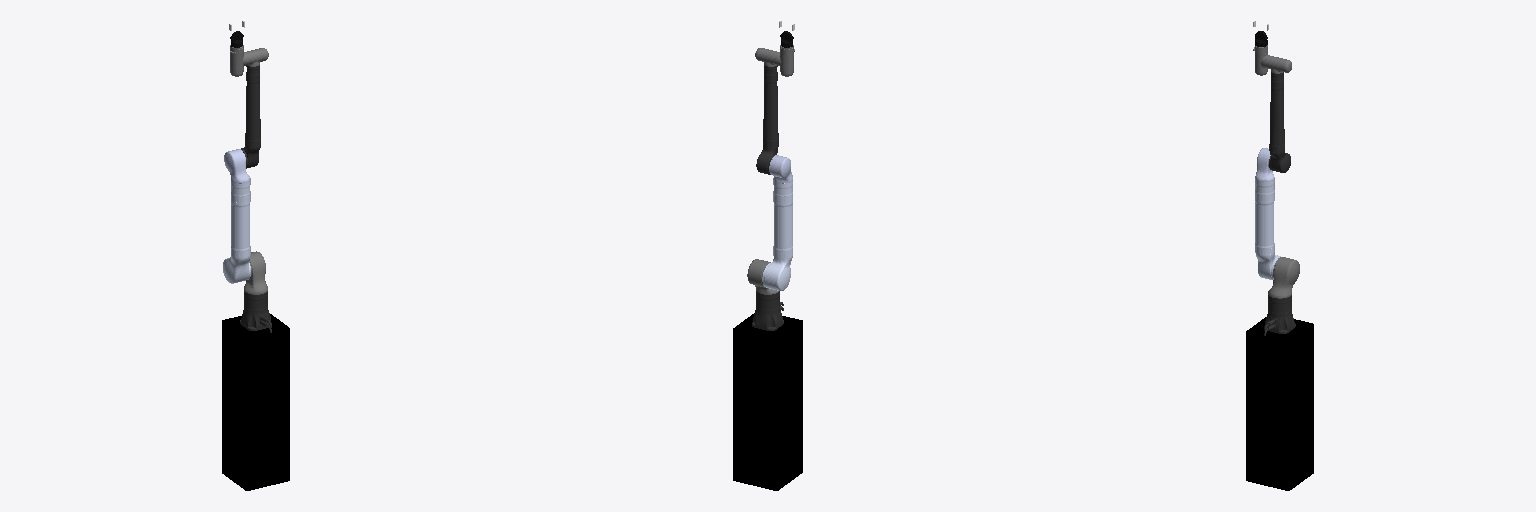
--- What the picture shows (computed from the rendered views, not written in the file) ---
3 views of the same robot in one strip: view 1: azimuth 30°, elevation 25°; view 2: azimuth 150°, elevation 25°; view 3: azimuth 330°, elevation 25° (orthographic).
Robot: kr1410_robot — 24 links, 23 joints (13 revolute, 10 fixed); root link world; default pose: all joints at 0.
Links seen in each view (by area): view 1: pedestal_link, link_2, link_4, base_link_1, link_1, link_3; view 2: pedestal_link, link_2, link_4, base_link_1, link_3, link_1; view 3: pedestal_link, link_2, link_4, link_1, base_link_1.
Boxes of the visible links, left/top/right/bottom form: pedestal_link: left=222, top=314, right=289, bottom=490; link_2: left=223, top=180, right=250, bottom=283; link_4: left=241, top=65, right=260, bottom=168; base_link_1: left=240, top=291, right=271, bottom=332; link_1: left=244, top=251, right=267, bottom=294; link_3: left=224, top=149, right=250, bottom=183; pedestal_link: left=733, top=313, right=802, bottom=490; link_2: left=762, top=180, right=792, bottom=290; link_4: left=756, top=65, right=778, bottom=174; base_link_1: left=752, top=291, right=783, bottom=330; link_3: left=769, top=155, right=792, bottom=183; link_1: left=747, top=259, right=778, bottom=294; pedestal_link: left=1246, top=317, right=1313, bottom=490; link_2: left=1255, top=179, right=1280, bottom=279; link_4: left=1269, top=72, right=1290, bottom=172; link_1: left=1268, top=257, right=1299, bottom=298; base_link_1: left=1264, top=295, right=1295, bottom=335.
Bounding box of the posed robot: 0.3299 × 0.3349 × 3.01 m (x, y, z).
Meshes: 13 distinct files referenced, 9 mesh visuals loaded (9 Collada DAE); not drawn: 8 (reference not matched to a file when rendering).

robot.urdf — kr1410_robot:
<?xml version="1.0" ?>
<!-- =================================================================================== -->
<!-- |    This document was autogenerated by xacro from kr1410_gripper.xacro           | -->
<!-- |    EDITING THIS FILE BY HAND IS NOT RECOMMENDED                                 | -->
<!-- =================================================================================== -->
<robot name="kr1410_robot">
    <!-- Author: Shivam -->
    <link name="base_link_1">
        <inertial>
            <origin rpy="0 0 0" xyz="-7.4738E-07 -0.0025261 0.10578" />
            <mass value="4.1962" />
            <inertia ixx="0.0097664" ixy="-2.7713E-06" ixz="-6.4429E-08" iyy="0.0097383" iyz="2.8724E-06" izz="0.01208" />
        </inertial>
        <visual>
            <origin rpy="0 0 0" xyz="0 0 0" />
            <geometry>
                <mesh filename="package://kr1410_cobot/meshes/visual/base_link_1.dae" />
            </geometry>
            <material name="">
                <color rgba="0.25098 0.25098 0.25098 1" />
            </material>
        </visual>
        <collision>
            <origin rpy="0 0 0" xyz="0 0 0" />
            <geometry>
                <mesh filename="package://kr1410_cobot/meshes/collision/base_link_1.STL" />
            </geometry>
        </collision>
    </link>
    <link name="link_1">
        <inertial>
            <origin rpy="0 0 0" xyz="0.012459 0.043509 0.10073" />
            <mass value="3.0192" />
            <inertia ixx="0.015663" ixy="-0.00040133" ixz="-0.00064388" iyy="0.012554" iyz="-0.0035217" izz="0.0094056" />
        </inertial>
        <visual>
            <origin rpy="0 0 0" xyz="0 0 0" />
            <geometry>
                <mesh filename="package://kr1410_cobot/meshes/visual/link_1.dae" />
            </geometry>
            <material name="">
                <color rgba="0.50196 0.50196 0.50196 1" />
            </material>
        </visual>
        <collision>
            <origin rpy="0 0 0" xyz="0 0 0" />
            <geometry>
                <mesh filename="package://kr1410_cobot/meshes/collision/link_1.STL" />
            </geometry>
        </collision>
    </link>
    <joint name="joint_1" type="revolute">
        <origin rpy="0 0 0" xyz="0 0 0.2272" />
        <parent link="base_link_1" />
        <child link="link_1" />
        <axis xyz="0 0 1" />
        <limit effort="150.0" lower="-3.1416" upper="3.1416" velocity="3.927" />
        <dynamics damping="0" friction="0" />
    </joint>
    <link name="link_2">
        <inertial>
            <origin rpy="0 0 0" xyz="-0.044962 -0.2486 0.062961" />
            <mass value="8.0381" />
            <inertia ixx="0.045397" ixy="-0.0027682" ixz="9.7935E-05" iyy="0.016757" iyz="0.00018387" izz="0.048264" />
        </inertial>
        <visual>
            <origin rpy="0 0 0" xyz="0 0 0" />
            <geometry>
                <mesh filename="package://kr1410_cobot/meshes/visual/link_2.dae" />
            </geometry>
            <material name="">
                <color rgba="0.86667 0.90588 1 1" />
            </material>
        </visual>
        <collision>
            <origin rpy="0 0 0" xyz="0 0 0" />
            <geometry>
                <mesh filename="package://kr1410_cobot/meshes/collision/link_2.STL" />
            </geometry>
        </collision>
    </link>
    <joint name="joint_2" type="revolute">
        <origin rpy="-1.5708 0 1.5708" xyz="-0.0405 0.062 0.13" />
        <parent link="link_1" />
        <child link="link_2" />
        <axis xyz="0 0 -1" />
        <limit effort="150.0" lower="-1.2217" upper="3.1416" velocity="3.927" />
        <dynamics damping="0" friction="0" />
    </joint>
    <link name="link_3">
        <inertial>
            <origin rpy="0 0 0" xyz="-0.010057 0.034551 0.080854" />
            <mass value="1.5966" />
            <inertia ixx="0.0054385" ixy="0.00013345" ixz="0.00023101" iyy="0.0043549" iyz="-0.0012411" izz="0.0032789" />
        </inertial>
        <visual>
            <origin rpy="0 0 0" xyz="0 0 0" />
            <geometry>
                <mesh filename="package://kr1410_cobot/meshes/visual/link_3.dae" />
            </geometry>
            <material name="">
                <color rgba="0.79216 0.81961 0.93333 1" />
            </material>
        </visual>
        <collision>
            <origin rpy="0 0 0" xyz="0 0 0" />
            <geometry>
                <mesh filename="package://kr1410_cobot/meshes/collision/link_3.STL" />
            </geometry>
        </collision>
    </link>
    <joint name="joint_3" type="revolute">
        <origin rpy="1.5708 1.5708 0" xyz="-0.062 -0.6175 0.0647" />
        <parent link="link_2" />
        <child link="link_3" />
        <axis xyz="0 0 1" />
        <limit effort="150.0" lower="-3.1416" upper="3.1416" velocity="3.927" />
        <dynamics damping="0" friction="0" />
    </joint>
    <link name="link_4">
        <inertial>
            <origin rpy="0 0 0" xyz="-0.036947 -0.23777 -0.051725" />
            <mass value="4.4818" />
            <inertia ixx="0.036251" ixy="-0.00092868" ixz="-2.0678E-05" iyy="0.0053736" iyz="-4.2282E-05" izz="0.037294" />
        </inertial>
        <visual>
            <origin rpy="0 0 0" xyz="0 0 0" />
            <geometry>
                <mesh filename="package://kr1410_cobot/meshes/visual/link_4.dae" />
            </geometry>
            <material name="">
                <color rgba="0.25098 0.25098 0.25098 1" />
            </material>
        </visual>
        <collision>
            <origin rpy="0 0 0" xyz="0 0 0" />
            <geometry>
                <mesh filename="package://kr1410_cobot/meshes/collision/link_4.STL" />
            </geometry>
        </collision>
    </link>
    <joint name="joint_4" type="revolute">
        <origin rpy="-1.5708 0 1.5708" xyz="0.0325 0.05 0.105" />
        <parent link="link_3" />
        <child link="link_4" />
        <axis xyz="0 0 1" />
        <limit effort="150.0" lower="-1.2217" upper="3.1416" velocity="3.927" />
        <dynamics damping="0" friction="0" />
    </joint>
    <link name="link_5">
        <inertial>
            <origin rpy="0 0 0" xyz="0.015982 4.9455E-08 0.043633" />
            <mass value="0.76365" />
            <inertia ixx="0.00066763" ixy="-2.6599E-09" ixz="8.4155E-06" iyy="0.00080379" iyz="-9.3021E-10" izz="0.00075782" />
        </inertial>
        <visual>
            <origin rpy="0 0 0" xyz="0 0 0" />
            <geometry>
                <mesh filename="package://kr1410_cobot/meshes/visual/link_5.dae" />
            </geometry>
            <material name="">
                <color rgba="0.50196 0.50196 0.50196 1" />
            </material>
        </visual>
        <collision>
            <origin rpy="0 0 0" xyz="0 0 0" />
            <geometry>
                <mesh filename="package://kr1410_cobot/meshes/collision/link_5.STL" />
            </geometry>
        </collision>
    </link>
    <joint name="joint_5" type="revolute">
        <origin rpy="1.5708 1.5708 0" xyz="-0.05 -0.631 -0.0532" />
        <parent link="link_4" />
        <child link="link_5" />
        <axis xyz="0 0 1" />
        <limit effort="28.0" lower="-3.1416" upper="3.1416" velocity="3.927" />
        <dynamics damping="0" friction="0" />
    </joint>
    <link name="link_6">
        <inertial>
            <origin rpy="0 0 0" xyz="-4.9555E-08 -0.016138 -0.043627" />
            <mass value="0.76211" />
            <inertia ixx="0.00080256" ixy="-2.6599E-09" ixz="-9.3021E-10" iyy="0.00066523" iyz="8.4155E-06" izz="0.00075659" />
        </inertial>
        <visual>
            <origin rpy="0 0 0" xyz="0 0 0" />
            <geometry>
                <mesh filename="package://kr1410_cobot/meshes/visual/link_6.dae" />
            </geometry>
            <material name="">
                <color rgba="0.50196 0.50196 0.50196 1" />
            </material>
        </visual>
        <collision>
            <origin rpy="0 0 0" xyz="0 0 0" />
            <geometry>
                <mesh filename="package://kr1410_cobot/meshes/collision/link_6.STL" />
            </geometry>
        </collision>
    </link>
    <joint name="joint_6" type="revolute">
        <origin rpy="1.5708 0 1.5708" xyz="-0.0645 0 0.0465" />
        <parent link="link_5" />
        <child link="link_6" />
        <axis xyz="0 0 -1" />
        <limit effort="28.0" lower="-3.1416" upper="3.1416" velocity="3.927" />
        <dynamics damping="0" friction="0" />
    </joint>
    <link name="tool_io">
        <inertial>
            <origin rpy="0 0 0" xyz="-0.00026943 -0.00014925 0.028118" />
            <mass value="0.22852" />
            <inertia ixx="0.00010445" ixy="9.8149E-07" ixz="-9.1736E-08" iyy="0.00010267" iyz="-1.6431E-08" izz="0.00017436" />
        </inertial>
        <visual>
            <origin rpy="0 0 0" xyz="0 0 0" />
            <geometry>
                <mesh filename="package://kr1410_cobot/meshes/visual/tool_io.dae" />
            </geometry>
            <material name="">
                <color rgba="0.50196 0.50196 0.50196 1" />
            </material>
        </visual>
        <collision>
            <origin rpy="0 0 0" xyz="0 0 0" />
            <geometry>
                <mesh filename="package://kr1410_cobot/meshes/collision/tool_io.STL" />
            </geometry>
        </collision>
    </link>
    <joint name="joint_tool_io" type="revolute">
        <origin rpy="1.5708 -1.5708 3.14" xyz="0 0.053 -0.0465" />
        <parent link="link_6" />
        <child link="tool_io" />
        <axis xyz="0 0 1" />
        <limit effort="28.0" lower="-3.1416" upper="3.1416" velocity="3.927" />
        <dynamics damping="0" friction="0" />
    </joint>
    <!-- Author: Shivam -->
    <transmission name="joint_1_trans">
        <type>transmission_interface/SimpleTransmission</type>
        <joint name="joint_1">
            <hardwareInterface>hardware_interface/PositionJointInterface</hardwareInterface>
        </joint>
        <actuator name="joint_1_motor">
            <mechanicalReduction>1.0</mechanicalReduction>
            <hardwareInterface>hardware_interface/PositionJointInterface</hardwareInterface>
        </actuator>
    </transmission>
    <transmission name="joint_2_trans">
        <type>transmission_interface/SimpleTransmission</type>
        <joint name="joint_2">
            <hardwareInterface>hardware_interface/PositionJointInterface</hardwareInterface>
        </joint>
        <actuator name="joint_2_motor">
            <mechanicalReduction>1.0</mechanicalReduction>
            <hardwareInterface>hardware_interface/PositionJointInterface</hardwareInterface>
        </actuator>
    </transmission>
    <transmission name="joint_3_trans">
        <type>transmission_interface/SimpleTransmission</type>
        <joint name="joint_3">
            <hardwareInterface>hardware_interface/PositionJointInterface</hardwareInterface>
        </joint>
        <actuator name="joint_3_motor">
            <mechanicalReduction>1.0</mechanicalReduction>
            <hardwareInterface>hardware_interface/PositionJointInterface</hardwareInterface>
        </actuator>
    </transmission>
    <transmission name="joint_4_trans">
        <type>transmission_interface/SimpleTransmission</type>
        <joint name="joint_4">
            <hardwareInterface>hardware_interface/PositionJointInterface</hardwareInterface>
        </joint>
        <actuator name="joint_4_motor">
            <mechanicalReduction>1.0</mechanicalReduction>
            <hardwareInterface>hardware_interface/PositionJointInterface</hardwareInterface>
        </actuator>
    </transmission>
    <transmission name="joint_5_trans">
        <type>transmission_interface/SimpleTransmission</type>
        <joint name="joint_5">
            <hardwareInterface>hardware_interface/PositionJointInterface</hardwareInterface>
        </joint>
        <actuator name="joint_5_motor">
            <mechanicalReduction>1.0</mechanicalReduction>
            <hardwareInterface>hardware_interface/PositionJointInterface</hardwareInterface>
        </actuator>
    </transmission>
    <transmission name="joint_6_trans">
        <type>transmission_interface/SimpleTransmission</type>
        <joint name="joint_6">
            <hardwareInterface>hardware_interface/PositionJointInterface</hardwareInterface>
        </joint>
        <actuator name="joint_6_motor">
            <mechanicalReduction>1.0</mechanicalReduction>
            <hardwareInterface>hardware_interface/PositionJointInterface</hardwareInterface>
        </actuator>
    </transmission>
    <transmission name="joint_tool_io_trans">
        <type>transmission_interface/SimpleTransmission</type>
        <joint name="joint_tool_io">
            <hardwareInterface>hardware_interface/PositionJointInterface</hardwareInterface>
        </joint>
        <actuator name="joint_tool_io_motor">
            <mechanicalReduction>1.0</mechanicalReduction>
            <hardwareInterface>hardware_interface/PositionJointInterface</hardwareInterface>
        </actuator>
    </transmission>
    <!-- Tool frame used by the arm -->
    <link name="tool_frame" />
    <joint name="tool_frame_joint" type="fixed">
        <origin rpy="0 0 0" xyz="0 0 0.120" />
        <parent link="ee_link" />
        <child link="tool_frame" />
        <axis xyz="0 0 0" />
    </joint>
    <joint name="gripper_base_joint" type="fixed">
        <parent link="ee_link" />
        <child link="robotiq_arg2f_base_link" />
        <origin rpy="0.0 0.0 1.57" xyz="0.0 0.0 0.0" />
    </joint>
    <link name="robotiq_arg2f_base_link">
        <inertial>
            <origin rpy="0 0 0" xyz="8.625E-08 -4.6583E-06 0.03145" />
            <mass value="0.22652" />
            <inertia ixx="0.00020005" ixy="-4.2442E-10" ixz="-2.9069E-10" iyy="0.00017832" iyz="-3.4402E-08" izz="0.00013478" />
        </inertial>
        <visual>
            <origin rpy="0 0 0" xyz="0 0 0" />
            <geometry>
                <mesh filename="package://robotiq_2f_85_gripper/meshes/visual/robotiq_arg2f_85_base_link.dae" scale="0.001 0.001 0.001" />
            </geometry>
            <material name="">
                <color rgba="0.1 0.1 0.1 1" />
            </material>
        </visual>
        <collision>
            <origin rpy="0 0 0" xyz="0 0 0" />
            <geometry>
                <mesh filename="package://robotiq_2f_85_gripper/meshes/collision/robotiq_arg2f_base_link.stl" />
            </geometry>
        </collision>
    </link>
    <link name="left_outer_knuckle">
        <inertial>
            <origin rpy="0 0 0" xyz="-0.000200000000003065 0.0199435877845359 0.0292245259211331" />
            <mass value="0.00853198276973456" />
            <inertia ixx="2.89328108496468E-06" ixy="-1.57935047237397E-19" ixz="-1.93980378593255E-19" iyy="1.86719750325683E-06" iyz="-1.21858577871576E-06" izz="1.21905238907251E-06" />
        </inertial>
        <visual>
            <origin rpy="0 0 0" xyz="0 0 0" />
            <geometry>
                <mesh filename="package://robotiq_2f_85_gripper/meshes/visual/robotiq_arg2f_85_outer_knuckle.dae" scale="0.001 0.001 0.001" />
            </geometry>
            <material name="">
                <color rgba="0.792156862745098 0.819607843137255 0.933333333333333 1" />
            </material>
        </visual>
        <collision>
            <origin rpy="0 0 0" xyz="0 0 0" />
            <geometry>
                <mesh filename="package://robotiq_2f_85_gripper/meshes/collision/robotiq_arg2f_85_outer_knuckle.dae" scale="0.001 0.001 0.001" />
            </geometry>
        </collision>
    </link>
    <link name="left_outer_finger">
        <inertial>
            <origin rpy="0 0 0" xyz="0.00030115855001899 0.0373907951953854 -0.0208027427000385" />
            <mass value="0.022614240507152" />
            <inertia ixx="1.52518312458174E-05" ixy="9.76583423954399E-10" ixz="-5.43838577022588E-10" iyy="6.17694243867776E-06" iyz="6.78636130740228E-06" izz="1.16494917907219E-05" />
        </inertial>
        <visual>
            <origin rpy="0 0 0" xyz="0 0 0" />
            <geometry>
                <mesh filename="package://robotiq_2f_85_gripper/meshes/visual/robotiq_arg2f_85_outer_finger.dae" scale="0.001 0.001 0.001" />
            </geometry>
            <material name="">
                <color rgba="0.1 0.1 0.1 1" />
            </material>
        </visual>
        <collision>
            <origin rpy="0 0 0" xyz="0 0 0" />
            <geometry>
                <mesh filename="package://robotiq_2f_85_gripper/meshes/collision/robotiq_arg2f_85_outer_finger.dae" scale="0.001 0.001 0.001" />
            </geometry>
        </collision>
    </link>
    <link name="left_inner_finger">
        <inertial>
            <origin rpy="0 0 0" xyz="0.000299999999999317 0.0160078233491243 -0.0136945669206257" />
            <mass value="0.0104003125914103" />
            <inertia ixx="2.71909453810972E-06" ixy="1.35402465472579E-21" ixz="-7.1817349065269E-22" iyy="7.69100314106116E-07" iyz="6.74715432769696E-07" izz="2.30315190420171E-06" />
        </inertial>
        <visual>
            <origin rpy="0 0 0" xyz="0 0 0" />
            <geometry>
                <mesh filename="package://robotiq_2f_85_gripper/meshes/visual/robotiq_arg2f_85_inner_finger.dae" scale="0.001 0.001 0.001" />
            </geometry>
            <material name="">
                <color rgba="0.1 0.1 0.1 1" />
            </material>
        </visual>
        <collision>
            <origin rpy="0 0 0" xyz="0 0 0" />
            <geometry>
                <mesh filename="package://robotiq_2f_85_gripper/meshes/collision/robotiq_arg2f_85_inner_finger.dae" scale="0.001 0.001 0.001" />
            </geometry>
        </collision>
    </link>
    <link name="left_inner_finger_pad">
        <inertial>
            <origin rpy="0 0 0" xyz="0.0000299999999999317 0.00160078233491243 -0.00136945669206257" />
            <mass value="0.00104003125914103" />
            <inertia ixx="2.71909453810972E-07" ixy="1.35402465472579E-22" ixz="-7.1817349065269E-23" iyy="7.69100314106116E-08" iyz="6.74715432769696E-08" izz="2.30315190420171E-07" />
        </inertial>
        <visual>
            <origin rpy="0 0 0" xyz="0 0 0" />
            <geometry>
                <box size="0.022 0.00635 0.0375" />
            </geometry>
            <material name="">
                <color rgba="0.9 0.9 0.9 1" />
            </material>
        </visual>
        <collision>
            <origin rpy="0 0 0" xyz="0 0 0" />
            <geometry>
                <box size="0.022 0.00635 0.0375" />
            </geometry>
            <material name="">
                <color rgba="0.9 0.0 0.0 1" />
            </material>
        </collision>
    </link>
    <link name="left_inner_knuckle">
        <inertial>
            <origin rpy="0 0 0" xyz="0.000123011831763771 0.0507850843201817 0.00103968640075166" />
            <mass value="0.0271177346495152" />
            <inertia ixx="2.61910379223783E-05" ixy="-2.43616858946494E-07" ixz="-6.37789906117123E-09" iyy="2.8270243746167E-06" iyz="-5.37200748039765E-07" izz="2.83695868220296E-05" />
        </inertial>
        <visual>
            <origin rpy="0 0 0" xyz="0 0 0" />
            <geometry>
                <mesh filename="package://robotiq_2f_85_gripper/meshes/visual/robotiq_arg2f_85_inner_knuckle.dae" scale="0.001 0.001 0.001" />
            </geometry>
            <material name="">
                <color rgba="0.1 0.1 0.1 1" />
            </material>
        </visual>
        <collision>
            <origin rpy="0 0 0" xyz="0 0 0" />
            <geometry>
                <mesh filename="package://robotiq_2f_85_gripper/meshes/collision/robotiq_arg2f_85_inner_knuckle.dae" scale="0.001 0.001 0.001" />
            </geometry>
        </collision>
    </link>
    <link name="right_outer_knuckle">
        <inertial>
            <origin rpy="0 0 0" xyz="-0.000200000000003065 0.0199435877845359 0.0292245259211331" />
            <mass value="0.00853198276973456" />
            <inertia ixx="2.89328108496468E-06" ixy="-1.57935047237397E-19" ixz="-1.93980378593255E-19" iyy="1.86719750325683E-06" iyz="-1.21858577871576E-06" izz="1.21905238907251E-06" />
        </inertial>
        <visual>
            <origin rpy="0 0 0" xyz="0 0 0" />
            <geometry>
                <mesh filename="package://robotiq_2f_85_gripper/meshes/visual/robotiq_arg2f_85_outer_knuckle.dae" scale="0.001 0.001 0.001" />
            </geometry>
            <material name="">
                <color rgba="0.792156862745098 0.819607843137255 0.933333333333333 1" />
            </material>
        </visual>
        <collision>
            <origin rpy="0 0 0" xyz="0 0 0" />
            <geometry>
                <mesh filename="package://robotiq_2f_85_gripper/meshes/collision/robotiq_arg2f_85_outer_knuckle.dae" scale="0.001 0.001 0.001" />
            </geometry>
        </collision>
    </link>
    <link name="right_outer_finger">
        <inertial>
            <origin rpy="0 0 0" xyz="0.00030115855001899 0.0373907951953854 -0.0208027427000385" />
            <mass value="0.022614240507152" />
            <inertia ixx="1.52518312458174E-05" ixy="9.76583423954399E-10" ixz="-5.43838577022588E-10" iyy="6.17694243867776E-06" iyz="6.78636130740228E-06" izz="1.16494917907219E-05" />
        </inertial>
        <visual>
            <origin rpy="0 0 0" xyz="0 0 0" />
            <geometry>
                <mesh filename="package://robotiq_2f_85_gripper/meshes/visual/robotiq_arg2f_85_outer_finger.dae" scale="0.001 0.001 0.001" />
            </geometry>
            <material name="">
                <color rgba="0.1 0.1 0.1 1" />
            </material>
        </visual>
        <collision>
            <origin rpy="0 0 0" xyz="0 0 0" />
            <geometry>
                <mesh filename="package://robotiq_2f_85_gripper/meshes/collision/robotiq_arg2f_85_outer_finger.dae" scale="0.001 0.001 0.001" />
            </geometry>
        </collision>
    </link>
    <link name="right_inner_finger">
        <inertial>
            <origin rpy="0 0 0" xyz="0.000299999999999317 0.0160078233491243 -0.0136945669206257" />
            <mass value="0.0104003125914103" />
            <inertia ixx="2.71909453810972E-06" ixy="1.35402465472579E-21" ixz="-7.1817349065269E-22" iyy="7.69100314106116E-07" iyz="6.74715432769696E-07" izz="2.30315190420171E-06" />
        </inertial>
        <visual>
            <origin rpy="0 0 0" xyz="0 0 0" />
            <geometry>
                <mesh filename="package://robotiq_2f_85_gripper/meshes/visual/robotiq_arg2f_85_inner_finger.dae" scale="0.001 0.001 0.001" />
            </geometry>
            <material name="">
                <color rgba="0.1 0.1 0.1 1" />
            </material>
        </visual>
        <collision>
            <origin rpy="0 0 0" xyz="0 0 0" />
            <geometry>
                <mesh filename="package://robotiq_2f_85_gripper/meshes/collision/robotiq_arg2f_85_inner_finger.dae" scale="0.001 0.001 0.001" />
            </geometry>
        </collision>
    </link>
    <link name="right_inner_finger_pad">
        <inertial>
            <origin rpy="0 0 0" xyz="0.0000299999999999317 0.00160078233491243 -0.00136945669206257" />
            <mass value="0.00104003125914103" />
            <inertia ixx="2.71909453810972E-07" ixy="1.35402465472579E-22" ixz="-7.1817349065269E-23" iyy="7.69100314106116E-08" iyz="6.74715432769696E-08" izz="2.30315190420171E-07" />
        </inertial>
        <visual>
            <origin rpy="0 0 0" xyz="0 0 0" />
            <geometry>
                <box size="0.022 0.00635 0.0375" />
            </geometry>
            <material name="">
                <color rgba="0.9 0.9 0.9 1" />
            </material>
        </visual>
        <collision>
            <origin rpy="0 0 0" xyz="0 0 0" />
            <geometry>
                <box size="0.022 0.00635 0.0375" />
            </geometry>
            <material name="">
                <color rgba="0.9 0.0 0.0 1" />
            </material>
        </collision>
    </link>
    <link name="right_inner_knuckle">
        <inertial>
            <origin rpy="0 0 0" xyz="0.000123011831763771 0.0507850843201817 0.00103968640075166" />
            <mass value="0.0271177346495152" />
            <inertia ixx="2.61910379223783E-05" ixy="-2.43616858946494E-07" ixz="-6.37789906117123E-09" iyy="2.8270243746167E-06" iyz="-5.37200748039765E-07" izz="2.83695868220296E-05" />
        </inertial>
        <visual>
            <origin rpy="0 0 0" xyz="0 0 0" />
            <geometry>
                <mesh filename="package://robotiq_2f_85_gripper/meshes/visual/robotiq_arg2f_85_inner_knuckle.dae" scale="0.001 0.001 0.001" />
            </geometry>
            <material name="">
                <color rgba="0.1 0.1 0.1 1" />
            </material>
        </visual>
        <collision>
            <origin rpy="0 0 0" xyz="0 0 0" />
            <geometry>
                <mesh filename="package://robotiq_2f_85_gripper/meshes/collision/robotiq_arg2f_85_inner_knuckle.dae" scale="0.001 0.001 0.001" />
            </geometry>
        </collision>
    </link>
    <joint name="finger_joint" type="revolute">
        <origin rpy="0 0 3.141592653589793" xyz="0 -0.0306011 0.054904" />
        <parent link="robotiq_arg2f_base_link" />
        <child link="left_outer_knuckle" />
        <axis xyz="1 0 0" />
        <limit effort="1000" lower="0" upper="0.8" velocity="2.0" />
    </joint>
    <joint name="left_outer_finger_joint" type="fixed">
        <origin rpy="0 0 0" xyz="0 0.0315 -0.0041" />
        <parent link="left_outer_knuckle" />
        <child link="left_outer_finger" />
        <axis xyz="1 0 0" />
    </joint>
    <joint name="left_inner_knuckle_joint" type="revolute">
        <!-- <origin xyz="0 ${reflect * -0.0127} 0.06142" rpy="${pi / 2 + .725} 0 ${(reflect - 1) * pi / 2}" /> -->
        <origin rpy="0 0 3.141592653589793" xyz="0 -0.0127 0.06142" />
        <parent link="robotiq_arg2f_base_link" />
        <child link="left_inner_knuckle" />
        <axis xyz="1 0 0" />
        <limit effort="1000" lower="0" upper="0.8757" velocity="2.0" />
        <mimic joint="finger_joint" multiplier="1" offset="0" />
    </joint>
    <joint name="left_inner_finger_joint" type="revolute">
        <origin rpy="0 0 0" xyz="0 0.0061 0.0471" />
        <parent link="left_outer_finger" />
        <child link="left_inner_finger" />
        <axis xyz="1 0 0" />
        <limit effort="1000" lower="-0.8757" upper="0.8757" velocity="2.0" />
        <mimic joint="finger_joint" multiplier="-1" offset="0" />
    </joint>
    <joint name="left_inner_finger_pad_joint" type="fixed">
        <origin rpy="0 0 0" xyz="0 -0.0220203446692936 0.03242" />
        <parent link="left_inner_finger" />
        <child link="left_inner_finger_pad" />
        <axis xyz="0 0 1" />
    </joint>
    <joint name="right_outer_knuckle_joint" type="revolute">
        <origin rpy="0 0 0" xyz="0 0.0306011 0.054904" />
        <parent link="robotiq_arg2f_base_link" />
        <child link="right_outer_knuckle" />
        <axis xyz="1 0 0" />
        <limit effort="1000" lower="0" upper="0.81" velocity="2.0" />
        <mimic joint="finger_joint" multiplier="1" offset="0" />
    </joint>
    <joint name="right_outer_finger_joint" type="fixed">
        <origin rpy="0 0 0" xyz="0 0.0315 -0.0041" />
        <parent link="right_outer_knuckle" />
        <child link="right_outer_finger" />
        <axis xyz="1 0 0" />
    </joint>
    <joint name="right_inner_knuckle_joint" type="revolute">
        <!-- <origin xyz="0 ${reflect * -0.0127} 0.06142" rpy="${pi / 2 + .725} 0 ${(reflect - 1) * pi / 2}" /> -->
        <origin rpy="0 0 0.0" xyz="0 0.0127 0.06142" />
        <parent link="robotiq_arg2f_base_link" />
        <child link="right_inner_knuckle" />
        <axis xyz="1 0 0" />
        <limit effort="1000" lower="0" upper="0.8757" velocity="2.0" />
        <mimic joint="finger_joint" multiplier="1" offset="0" />
    </joint>
    <joint name="right_inner_finger_joint" type="revolute">
        <origin rpy="0 0 0" xyz="0 0.0061 0.0471" />
        <parent link="right_outer_finger" />
        <child link="right_inner_finger" />
        <axis xyz="1 0 0" />
        <limit effort="1000" lower="-0.8757" upper="0.8757" velocity="2.0" />
        <mimic joint="finger_joint" multiplier="-1" offset="0" />
    </joint>
    <joint name="right_inner_finger_pad_joint" type="fixed">
        <origin rpy="0 0 0" xyz="0 -0.0220203446692936 0.03242" />
        <parent link="right_inner_finger" />
        <child link="right_inner_finger_pad" />
        <axis xyz="0 0 1" />
    </joint>
    <transmission name="finger_joint_trans">
        <type>transmission_interface/SimpleTransmission</type>
        <joint name="finger_joint">
            <hardwareInterface>hardware_interface/PositionJointInterface</hardwareInterface>
        </joint>
        <actuator name="finger_joint_motor">
            <mechanicalReduction>1</mechanicalReduction>
            <hardwareInterface>hardware_interface/PositionJointInterface</hardwareInterface>
        </actuator>
    </transmission>
    <gazebo reference="pedestal_link">
        <material>Gazebo/DarkGray</material>
        <plugin name="gazebo_ros_control">
            <robotNamespace>/</robotNamespace>
        </plugin>
    </gazebo>
    <gazebo reference="robotiq_arg2f_base_link">
        <material>Gazebo/Black</material>
    </gazebo>
    <!-- Configure self collision properties per link -->
    <gazebo reference="base_link_1">
        <selfCollide>true</selfCollide>
    </gazebo>
    <!-- Configure self collision properties per link -->
    <gazebo reference="link_1">
        <selfCollide>true</selfCollide>
    </gazebo>
    <!-- Configure self collision properties per link -->
    <gazebo reference="link_2">
        <selfCollide>true</selfCollide>
    </gazebo>
    <!-- Configure self collision properties per link -->
    <gazebo reference="link_3">
        <selfCollide>true</selfCollide>
    </gazebo>
    <!-- Configure self collision properties per link -->
    <gazebo reference="link_4">
        <selfCollide>true</selfCollide>
    </gazebo>
    <!-- Configure self collision properties per link -->
    <gazebo reference="link_5">
        <selfCollide>true</selfCollide>
    </gazebo>
    <!-- Configure self collision properties per link -->
    <gazebo reference="link_6">
        <selfCollide>true</selfCollide>
    </gazebo>
    <!-- Configure self collision properties per link -->
    <gazebo reference="tool_io">
        <selfCollide>true</selfCollide>
    </gazebo>
    <!-- Gazebo Plugins -->
    <gazebo>
        <plugin filename="libgazebo_ros_control.so" name="ros_control">
            <!--robotNamespace>/</robotNamespace-->
            <!--robotSimType>gazebo_ros_control/DefaultRobotHWSim</robotSimType-->
        </plugin>
    </gazebo>
    <gazebo>
        <plugin filename="libroboticsgroup_upatras_gazebo_mimic_joint_plugin.so" name="right_outer_knuckle_joint_mimic_plugin">
            <joint>finger_joint</joint>
            <mimicJoint>right_outer_knuckle_joint</mimicJoint>
            <multiplier>1.0</multiplier>
            <offset>0.0</offset>
            <sensitiveness>0.0</sensitiveness>
            <maxEffort>5.0</maxEffort>
        </plugin>
    </gazebo>
    <gazebo>
        <plugin filename="libroboticsgroup_upatras_gazebo_mimic_joint_plugin.so" name="left_inner_finger_joint_mimic_plugin">
            <joint>finger_joint</joint>
            <mimicJoint>left_inner_finger_joint</mimicJoint>
            <multiplier>-1.0</multiplier>
            <offset>0.0</offset>
            <sensitiveness>0.0</sensitiveness>
            <maxEffort>5.0</maxEffort>
        </plugin>
    </gazebo>
    <gazebo>
        <plugin filename="libroboticsgroup_upatras_gazebo_mimic_joint_plugin.so" name="right_inner_finger_joint_mimic_plugin">
            <joint>finger_joint</joint>
            <mimicJoint>right_inner_finger_joint</mimicJoint>
            <multiplier>-1.0</multiplier>
            <offset>0.0</offset>
            <sensitiveness>0.0</sensitiveness>
            <maxEffort>5.0</maxEffort>
        </plugin>
    </gazebo>
    <gazebo>
        <plugin filename="libroboticsgroup_upatras_gazebo_mimic_joint_plugin.so" name="left_inner_knuckle_joint_mimic_plugin">
            <joint>finger_joint</joint>
            <mimicJoint>left_inner_knuckle_joint</mimicJoint>
            <multiplier>1.0</multiplier>
            <offset>0.0</offset>
            <sensitiveness>0.0</sensitiveness>
            <maxEffort>5.0</maxEffort>
        </plugin>
    </gazebo>
    <gazebo>
        <plugin filename="libroboticsgroup_upatras_gazebo_mimic_joint_plugin.so" name="right_inner_knuckle_joint_mimic_plugin">
            <joint>finger_joint</joint>
            <mimicJoint>right_inner_knuckle_joint</mimicJoint>
            <multiplier>1.0</multiplier>
            <offset>0.0</offset>
            <sensitiveness>0.0</sensitiveness>
            <maxEffort>5.0</maxEffort>
        </plugin>
    </gazebo>
    <gazebo>
        <plugin filename="libgazebo_grasp_fix.so" name="gazebo_grasp_fix">
            <arm>
                <arm_name>kr1410_robot</arm_name>
                <palm_link>left_outer_knuckle</palm_link>
                <palm_link>right_outer_knuckle</palm_link>
                <gripper_link>left_inner_finger</gripper_link>
                <gripper_link>right_inner_finger</gripper_link>
            </arm>
            <forces_angle_tolerance>100</forces_angle_tolerance>
            <update_rate>4</update_rate>
            <grip_count_threshold>4</grip_count_threshold>
            <max_grip_count>8</max_grip_count>
            <release_tolerance>0.005</release_tolerance>
            <disable_collisions_on_attach>false</disable_collisions_on_attach>
            <contact_topic>__default_topic__</contact_topic>
        </plugin>
    </gazebo>
    <!-- Define the kr1410 robot position and orientation in the world coordinate system -->
    <link name="world" />
    <joint name="world_joint" type="fixed">
        <parent link="world" />
        <child link="base_link" />
        <origin rpy="0.0 0.0 0.0" xyz="0.0 0.0 1.0" />
    </joint>
    <joint name="pedestal_joint" type="fixed">
        <!-- <origin rpy="0 0 0" xyz="0.5 1.8 0.0"/> -->
        <origin rpy="0 0 0" xyz="0.0 0.0 0.0" />
        <parent link="world" />
        <child link="pedestal_link" />
    </joint>
    <!-- Create a dummy link base_link -->
    <link name="base_link" />
    <joint name="base_link_joint" type="fixed">
        <parent link="base_link" />
        <child link="base_link_1" />
        <origin rpy="0 0 0" xyz="0 0 0" />
    </joint>
    <link name="pedestal_link">
        <visual>
            <origin xyz="0 0 0.5" />
            <geometry>
                <box size="0.3 0.3 1.0" />
            </geometry>
            <material name="pedestal_color">
                <color rgba="0 0 0 1" />
            </material>
        </visual>
        <collision>
            <origin xyz="0 0 0.5" />
            <geometry>
                <box size="0.3 0.3 1.0" />
            </geometry>
        </collision>
        <inertial>
            <mass value="500" />
            <origin rpy="0 0 0" xyz="0 0 0" />
            <inertia ixx="0.001" ixy="0" ixz="0" iyy="0.001" iyz="0" izz="0.001" />
        </inertial>
    </link>
    <!-- Create end effector link. On this link gripper will be mounted -->
    <link name="ee_link" />
    <joint name="ee_joint" type="fixed">
        <parent link="tool_io" />
        <child link="ee_link" />
        <origin rpy="0 0 0" xyz="0 0 0.0465" />
    </joint>
    <transmission name="trans_left_inner_knuckle_joint">
        <type>transmission_interface/SimpleTransmission</type>
        <joint name="left_inner_knuckle_joint">
            <hardwareInterface>hardware_interface/EffortJointInterface</hardwareInterface>
        </joint>
        <actuator name="left_inner_knuckle_joint_motor">
            <hardwareInterface>hardware_interface/EffortJointInterface</hardwareInterface>
            <mechanicalReduction>1</mechanicalReduction>
        </actuator>
    </transmission>
    <transmission name="trans_left_inner_finger_joint">
        <type>transmission_interface/SimpleTransmission</type>
        <joint name="left_inner_finger_joint">
            <hardwareInterface>hardware_interface/EffortJointInterface</hardwareInterface>
        </joint>
        <actuator name="left_inner_finger_joint_motor">
            <hardwareInterface>hardware_interface/EffortJointInterface</hardwareInterface>
            <mechanicalReduction>1</mechanicalReduction>
        </actuator>
    </transmission>
    <transmission name="trans_right_outer_knuckle_joint">
        <type>transmission_interface/SimpleTransmission</type>
        <joint name="right_outer_knuckle_joint">
            <hardwareInterface>hardware_interface/EffortJointInterface</hardwareInterface>
        </joint>
        <actuator name="right_outer_knuckle_joint_motor">
            <hardwareInterface>hardware_interface/EffortJointInterface</hardwareInterface>
            <mechanicalReduction>1</mechanicalReduction>
        </actuator>
    </transmission>
    <transmission name="trans_right_inner_knuckle_joint">
        <type>transmission_interface/SimpleTransmission</type>
        <joint name="right_inner_knuckle_joint">
            <hardwareInterface>hardware_interface/EffortJointInterface</hardwareInterface>
        </joint>
        <actuator name="right_inner_knuckle_joint_motor">
            <hardwareInterface>hardware_interface/EffortJointInterface</hardwareInterface>
            <mechanicalReduction>1</mechanicalReduction>
        </actuator>
    </transmission>
    <transmission name="trans_right_inner_finger_joint">
        <type>transmission_interface/SimpleTransmission</type>
        <joint name="right_inner_finger_joint">
            <hardwareInterface>hardware_interface/EffortJointInterface</hardwareInterface>
        </joint>
        <actuator name="right_inner_finger_joint_motor">
            <hardwareInterface>hardware_interface/EffortJointInterface</hardwareInterface>
            <mechanicalReduction>1</mechanicalReduction>
        </actuator>
    </transmission>
</robot>
